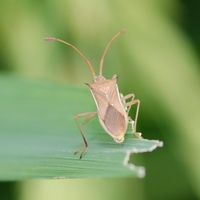insect: (44, 30, 141, 158)
